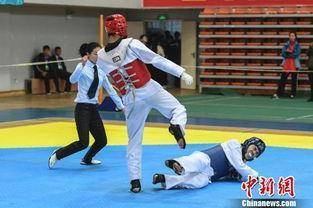Fall-Detected: (149, 128, 270, 191)
